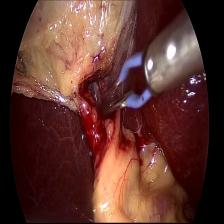Bipolar: (91, 15, 195, 126)
